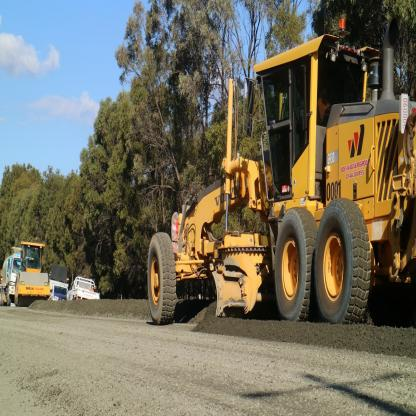bull_dozer/loader/grader: (134, 15, 416, 344)
